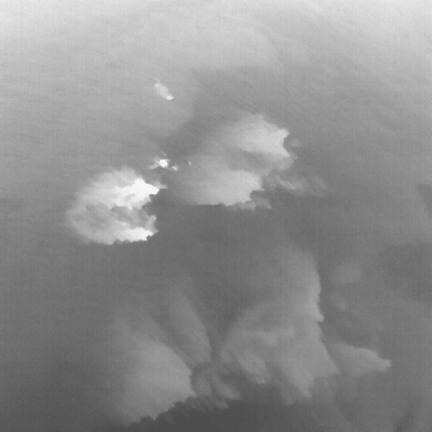flukeprints: (121, 178, 161, 205), (119, 228, 153, 240), (157, 159, 168, 167)
